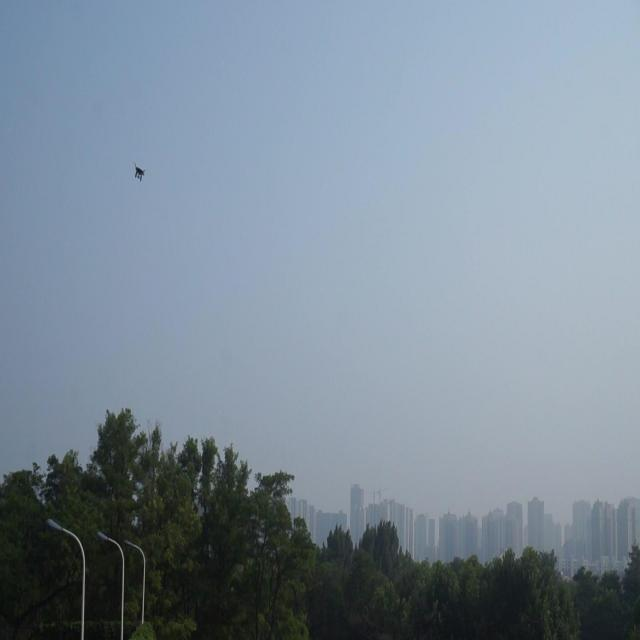UAV: (133, 162, 146, 182)
